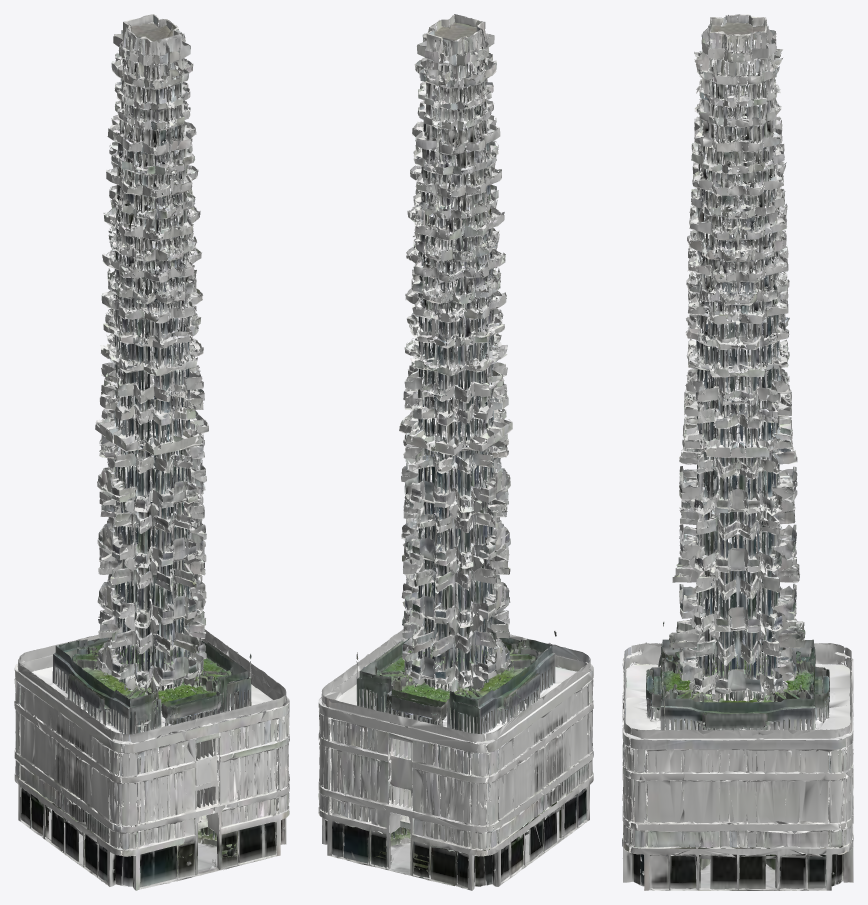
File: binghatti-royal.glb
The picture shows the model from 3 angles, left to right: view 1: azimuth 30°, elevation 25°; view 2: azimuth 150°, elevation 25°; view 3: azimuth 270°, elevation 25°; orthographic projection. The views are drawn at different scales.
Visible parts, largest first — view 1: Mesh_0; view 2: Mesh_0; view 3: Mesh_0.
Part boxes in pixels (x1,y1,x2,y2): Mesh_0: [14, 14, 289, 890]; Mesh_0: [318, 14, 593, 890]; Mesh_0: [622, 14, 853, 890].
Size of the model in its own units: 38 by 165 by 42.
Materials: 1 (1 with a texture image).
